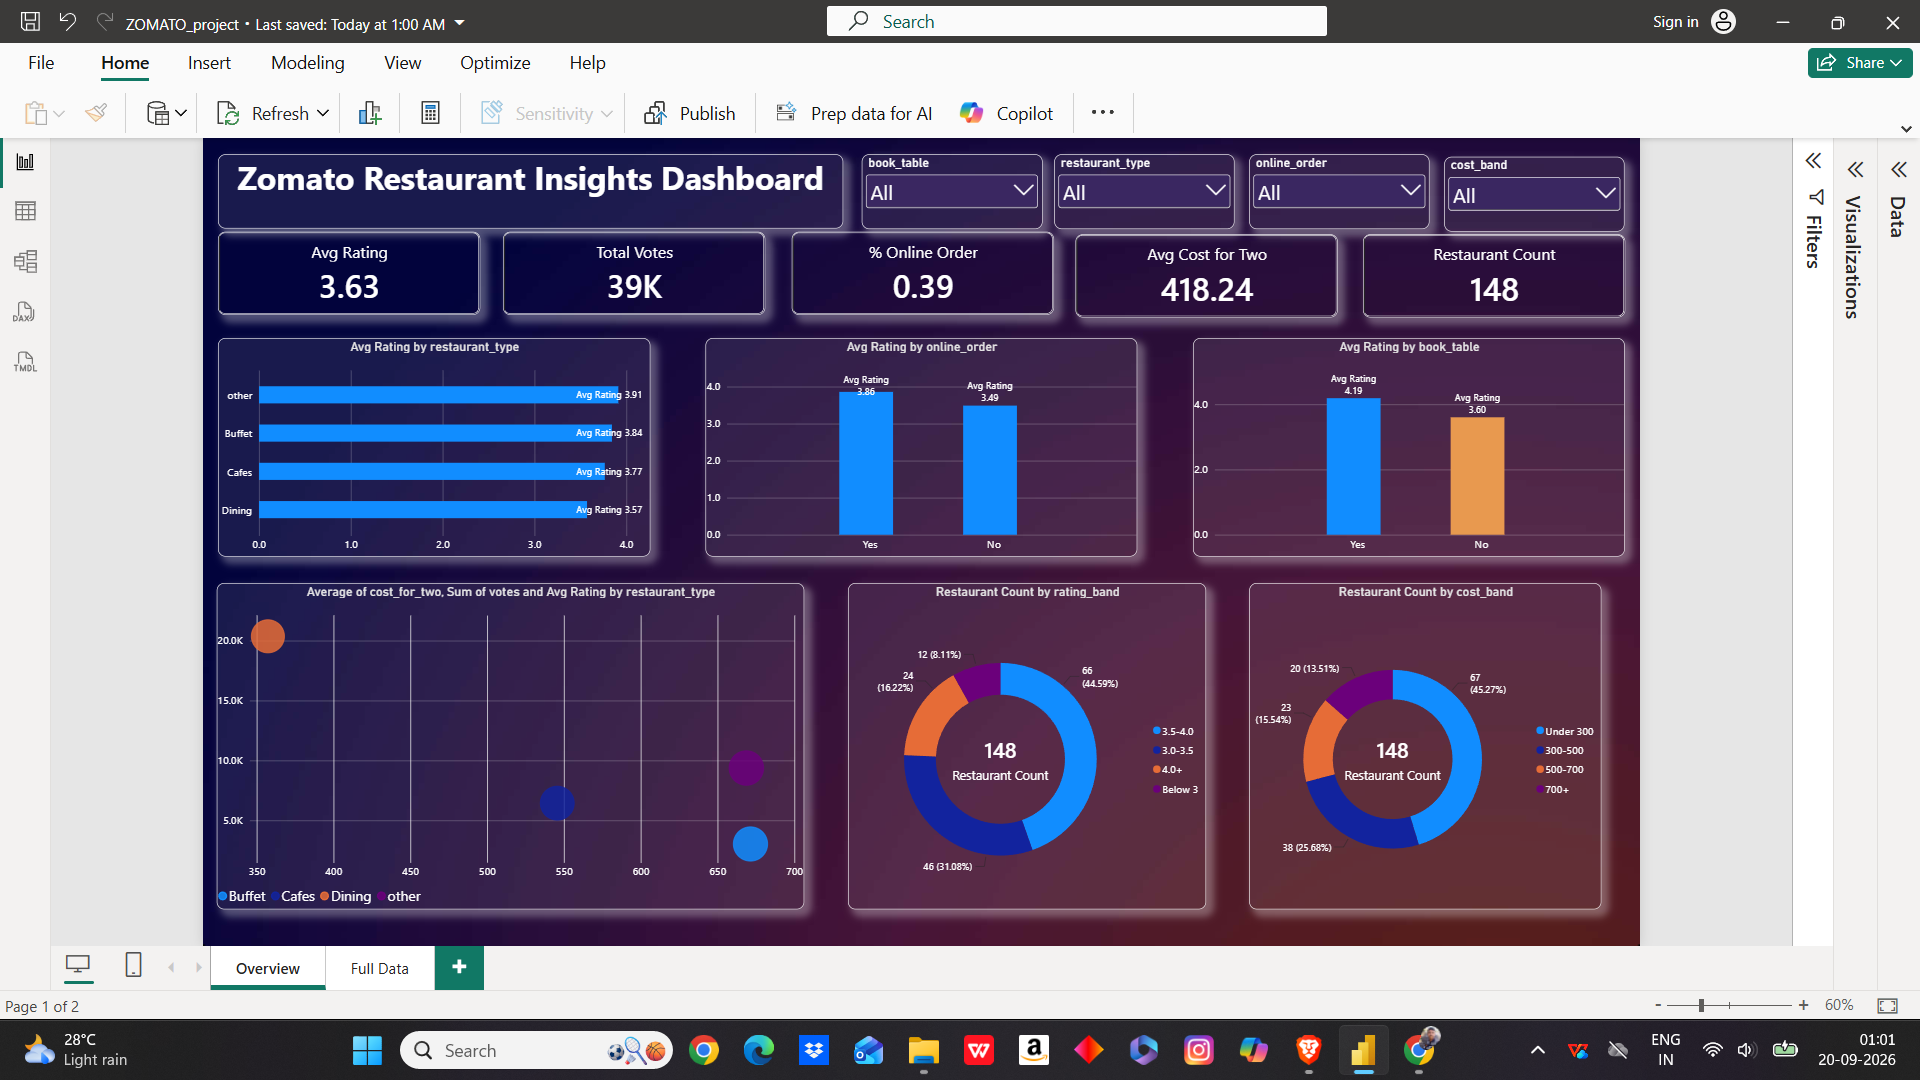

The page's visual inventory and layout, read from the dashboard file:
{"tool":"powerbi","page":{"name":"Overview","canvas":[1920,1080],"ordinal":0},"visuals":[{"type":"cardVisual","fields":{"Data":["restaurants.Avg Rating"]},"box":[20.3,125.7,350,111.5],"z":0},{"type":"cardVisual","fields":{"Data":["restaurants.Total Votes"]},"box":[401.5,125.7,350,111],"z":1000},{"type":"cardVisual","fields":{"Data":["restaurants.Avg Cost for Two"]},"box":[1166,127.8,350,111],"z":2000},{"type":"cardVisual","fields":{"Data":["restaurants.% Online Order"]},"box":[786.8,125.7,350,111],"z":3000},{"type":"cardVisual","fields":{"Data":["restaurants.Restaurant Count"]},"box":[1549.3,127.8,350,111],"z":4000},{"type":"clusteredBarChart","fields":{"Category":["restaurants.restaurant_type"],"Y":["restaurants.Avg Rating"]},"box":[20.3,267.7,577.9,292],"z":5000},{"type":"clusteredColumnChart","fields":{"Category":["restaurants.online_order"],"Y":["restaurants.Avg Rating"]},"box":[671.2,267.7,577,292],"z":6000},{"type":"clusteredColumnChart","fields":{"Category":["restaurants.book_table"],"Y":["restaurants.Avg Rating"]},"box":[1322.2,267.7,577,292],"z":7000},{"type":"scatterChart","fields":{"Series":["restaurants.restaurant_type"],"Size":["restaurants.Avg Rating"],"X":["Avg(restaurants.cost_for_two)"],"Y":["Sum(restaurants.votes)"]},"box":[18.3,594.2,784.8,436],"z":8000},{"type":"donutChart","fields":{"Category":["restaurants.rating_band"],"Y":["restaurants.Restaurant Count"]},"box":[861.9,594.2,478.6,436],"z":9000},{"type":"donutChart","fields":{"Category":["restaurants.cost_band"],"Y":["restaurants.Restaurant Count"]},"box":[1397.2,594.2,470.5,436],"z":10000},{"type":"slicer","fields":{"Values":["restaurants.restaurant_type"]},"box":[1137.6,22.3,241,100],"z":12000},{"type":"textbox","box":[20,22.3,835.5,99.4],"z":13000},{"type":"slicer","fields":{"Values":["restaurants.online_order"]},"box":[1397.2,22.3,241,100],"z":14000},{"type":"slicer","fields":{"Values":["restaurants.book_table"]},"box":[880.1,22.3,241.3,100],"z":15000},{"type":"slicer","fields":{"Values":["restaurants.cost_band"]},"box":[1658.8,24.3,241,100],"z":16000}]}

Visuals, with their boxes on the page's 1920x1080 design canvas (x1, y1, x2, y2). These are canvas units, not pixel positions in the 1920x1080 screenshot, which may show the page scaled, cropped or inside an application window:
cardVisual - restaurants.Avg Rating: (left=20, top=126, right=370, bottom=237)
cardVisual - restaurants.Total Votes: (left=402, top=126, right=752, bottom=237)
cardVisual - restaurants.Avg Cost for Two: (left=1166, top=128, right=1516, bottom=239)
cardVisual - restaurants.% Online Order: (left=787, top=126, right=1137, bottom=237)
cardVisual - restaurants.Restaurant Count: (left=1549, top=128, right=1899, bottom=239)
clusteredBarChart - restaurants.restaurant_type x restaurants.Avg Rating: (left=20, top=268, right=598, bottom=560)
clusteredColumnChart - restaurants.online_order x restaurants.Avg Rating: (left=671, top=268, right=1248, bottom=560)
clusteredColumnChart - restaurants.book_table x restaurants.Avg Rating: (left=1322, top=268, right=1899, bottom=560)
scatterChart - restaurants.restaurant_type x restaurants.Avg Rating: (left=18, top=594, right=803, bottom=1030)
donutChart - restaurants.rating_band x restaurants.Restaurant Count: (left=862, top=594, right=1340, bottom=1030)
donutChart - restaurants.cost_band x restaurants.Restaurant Count: (left=1397, top=594, right=1868, bottom=1030)
slicer - restaurants.restaurant_type: (left=1138, top=22, right=1379, bottom=122)
textbox: (left=20, top=22, right=856, bottom=122)
slicer - restaurants.online_order: (left=1397, top=22, right=1638, bottom=122)
slicer - restaurants.book_table: (left=880, top=22, right=1121, bottom=122)
slicer - restaurants.cost_band: (left=1659, top=24, right=1900, bottom=124)
